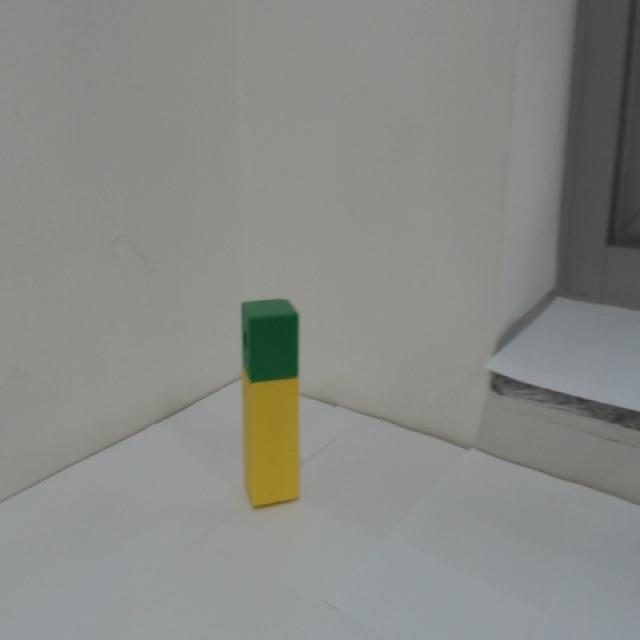cube: (241, 298, 299, 384)
